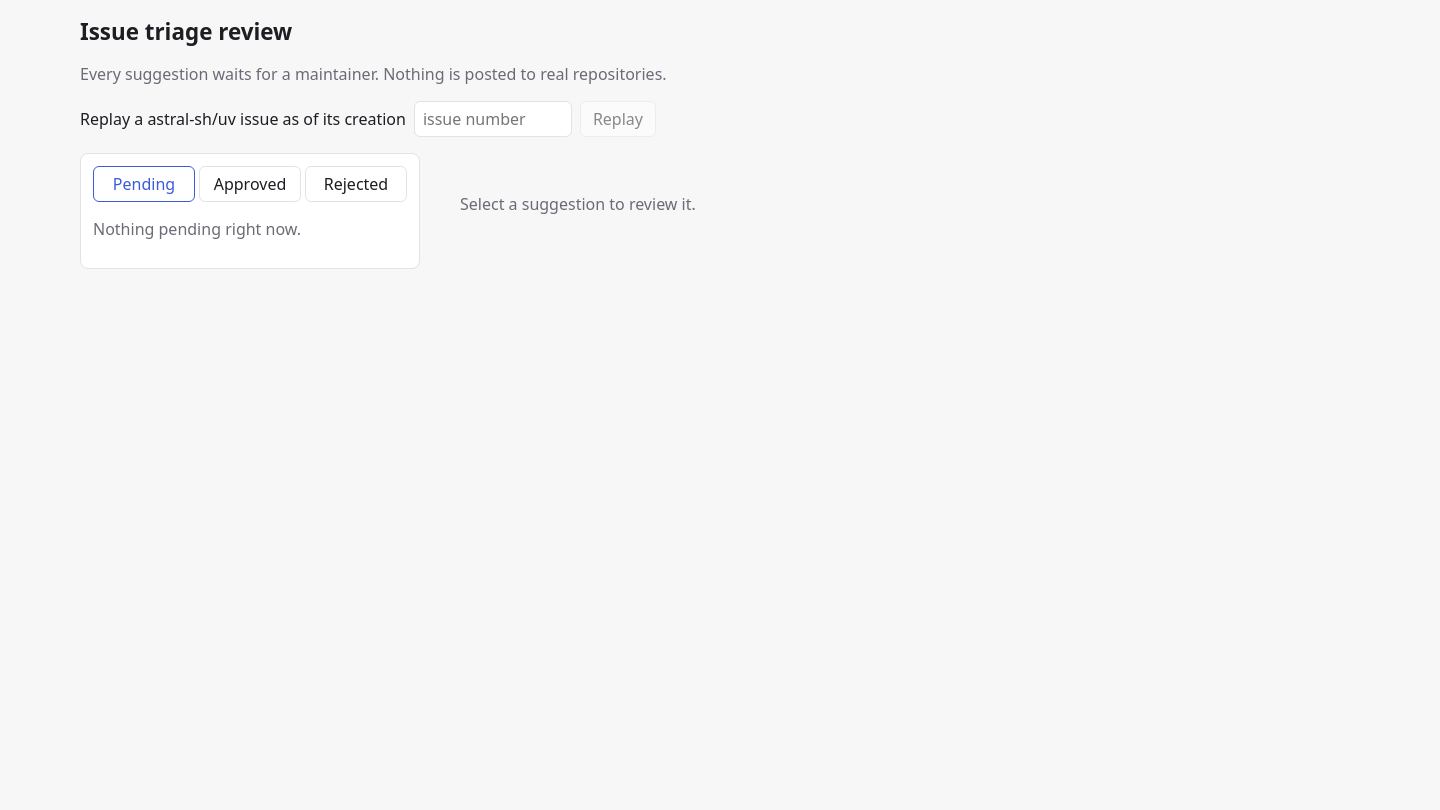
Test case: replay mode › replays an issue by number and opens it
Type "42" into the field labelled "Replay a astral-sh/uv issue as of its creation" at (493, 119), box [414,101,572,137]
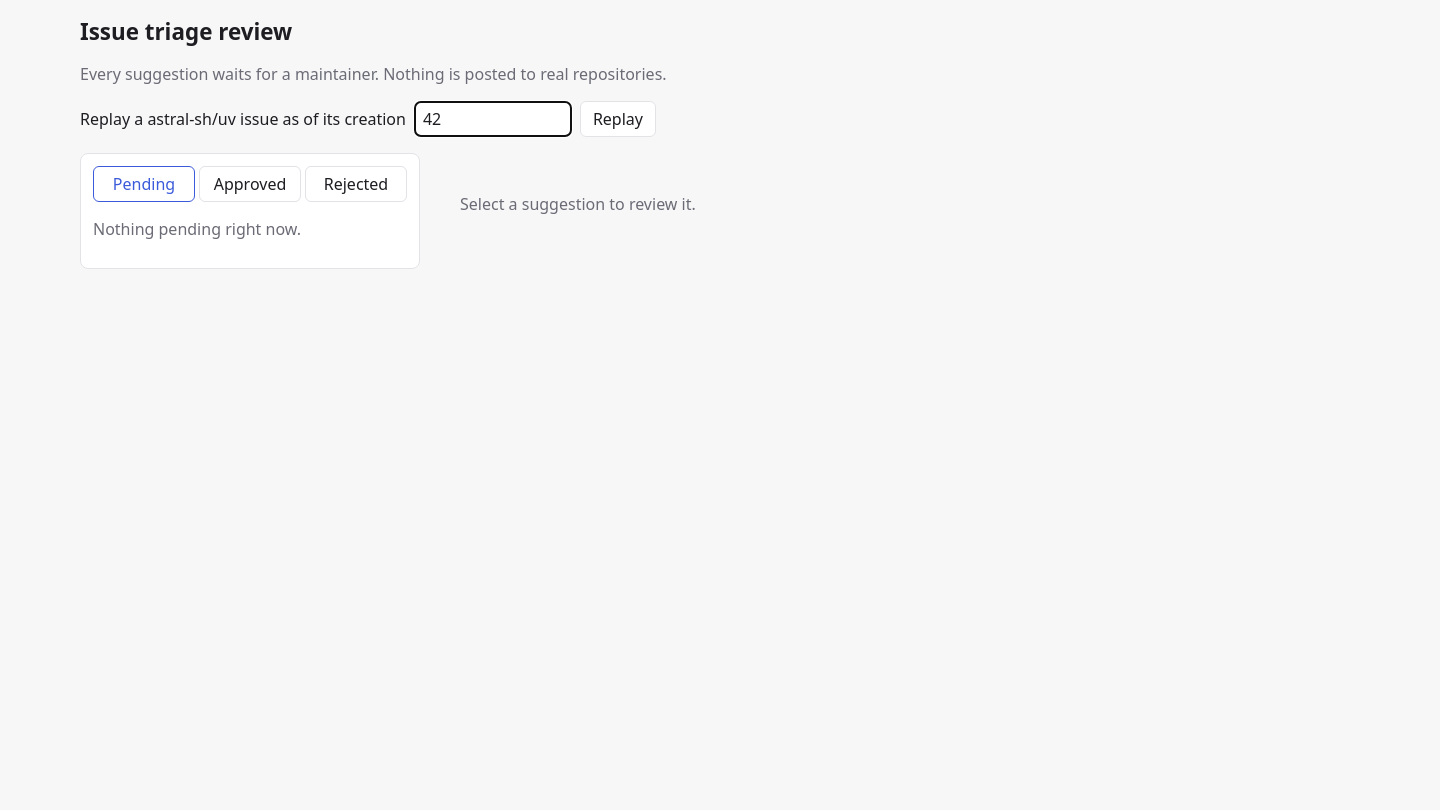
Click the button "Replay" at (618, 119), box [580,101,656,137]
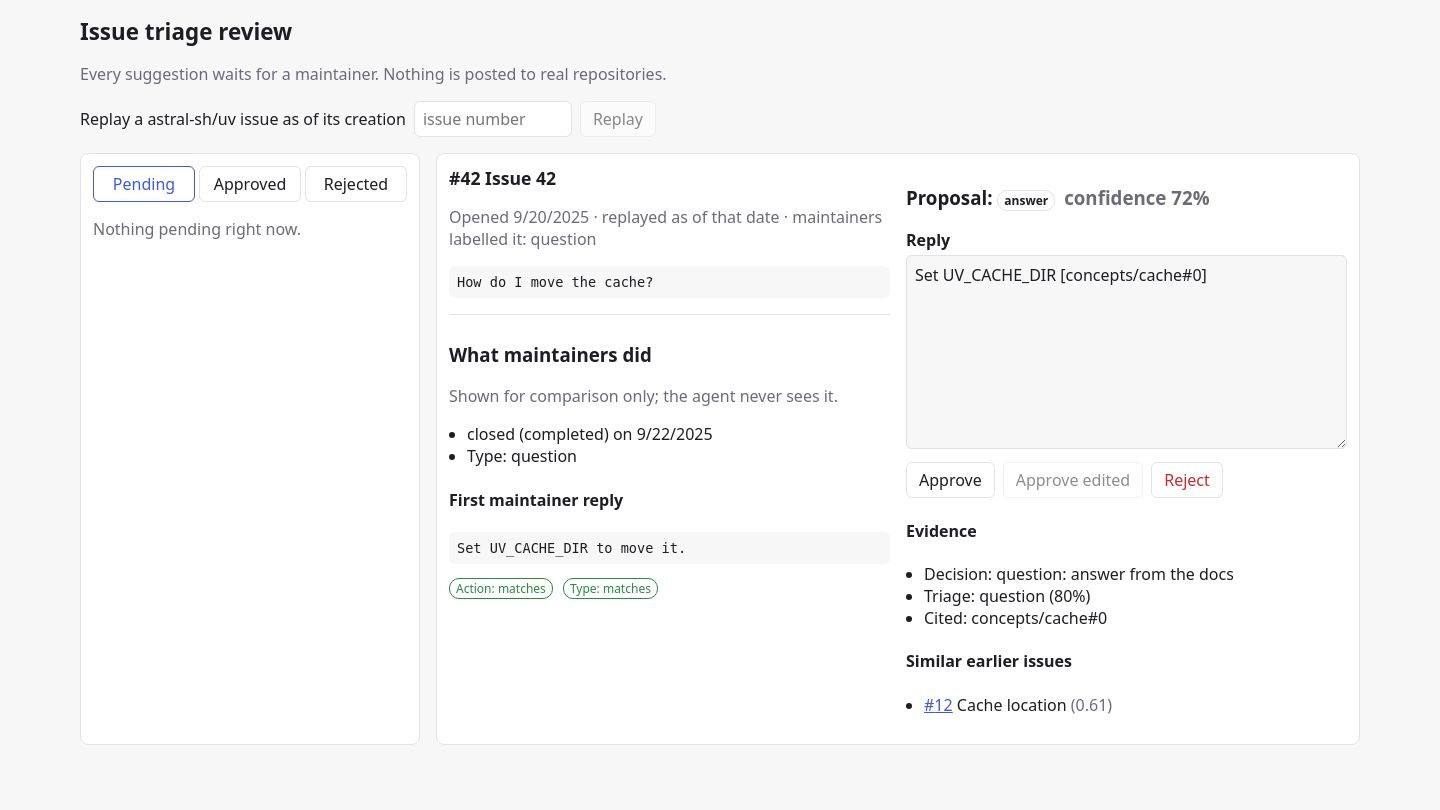
Now the heading "#42 Issue 42" is shown, box [449,166,556,190]
